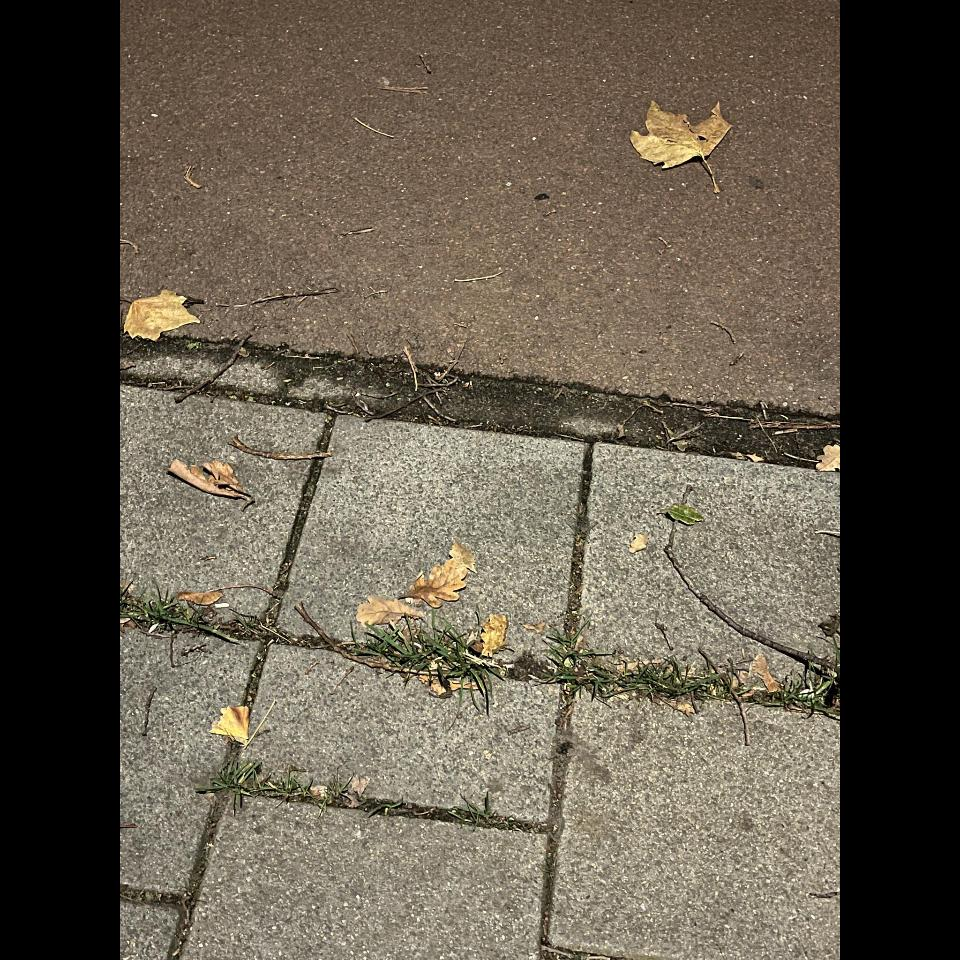weed: (542, 634, 840, 719), (296, 603, 506, 712), (195, 757, 351, 809), (363, 791, 547, 833), (120, 588, 235, 643)
